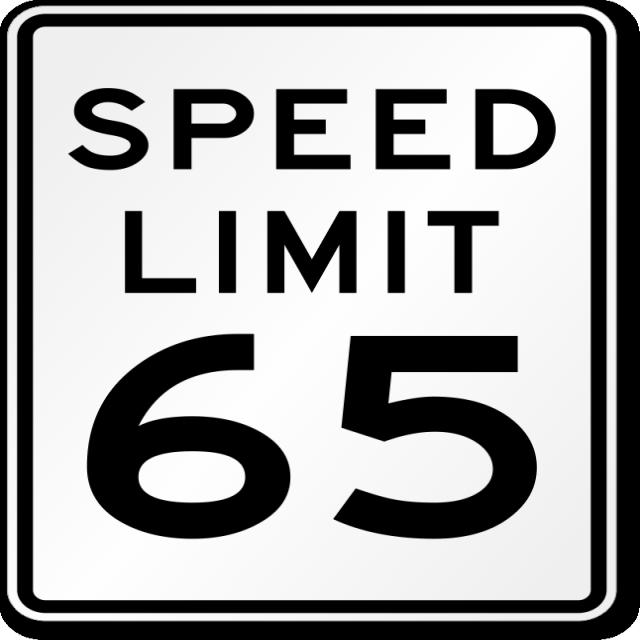Speed Limit Signs: (7, 6, 621, 624)
